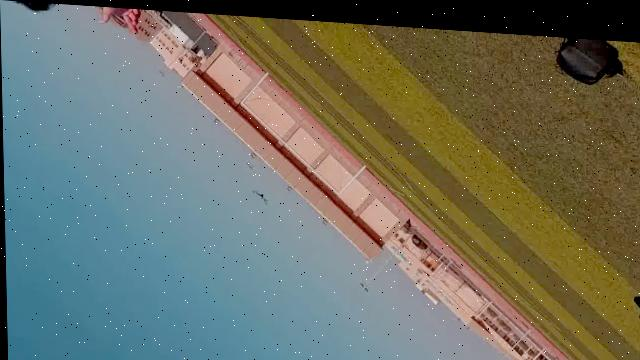drone: (241, 178, 273, 206)
